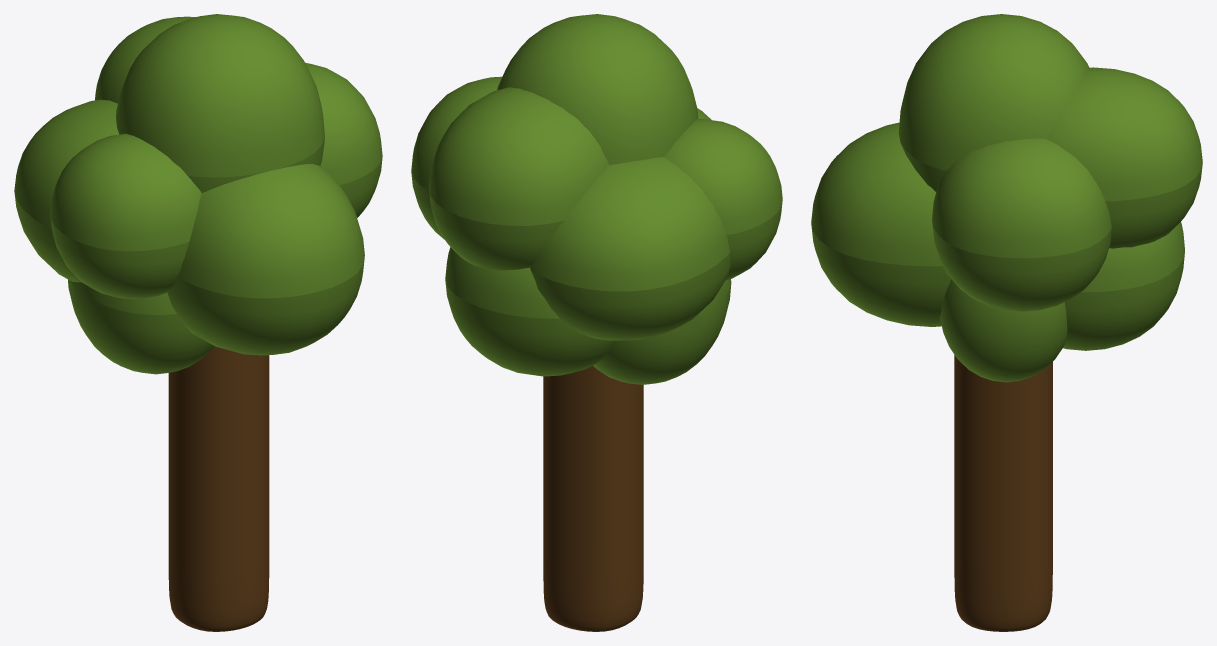
File: Baum.fbx
3 views of the same model, side by side, from view 1: azimuth 30°, elevation 25°; view 2: azimuth 150°, elevation 25°; view 3: azimuth 270°, elevation 25° (orthographic).
Parts seen in each view (by area): view 1: Baum; view 2: Baum; view 3: Baum.
Part boxes in pixels (x1,y1,x2,y2): Baum: [14, 14, 382, 631]; Baum: [411, 14, 782, 631]; Baum: [811, 14, 1202, 631].
Bounding box in the file's own units: 431 × 749 × 449.
